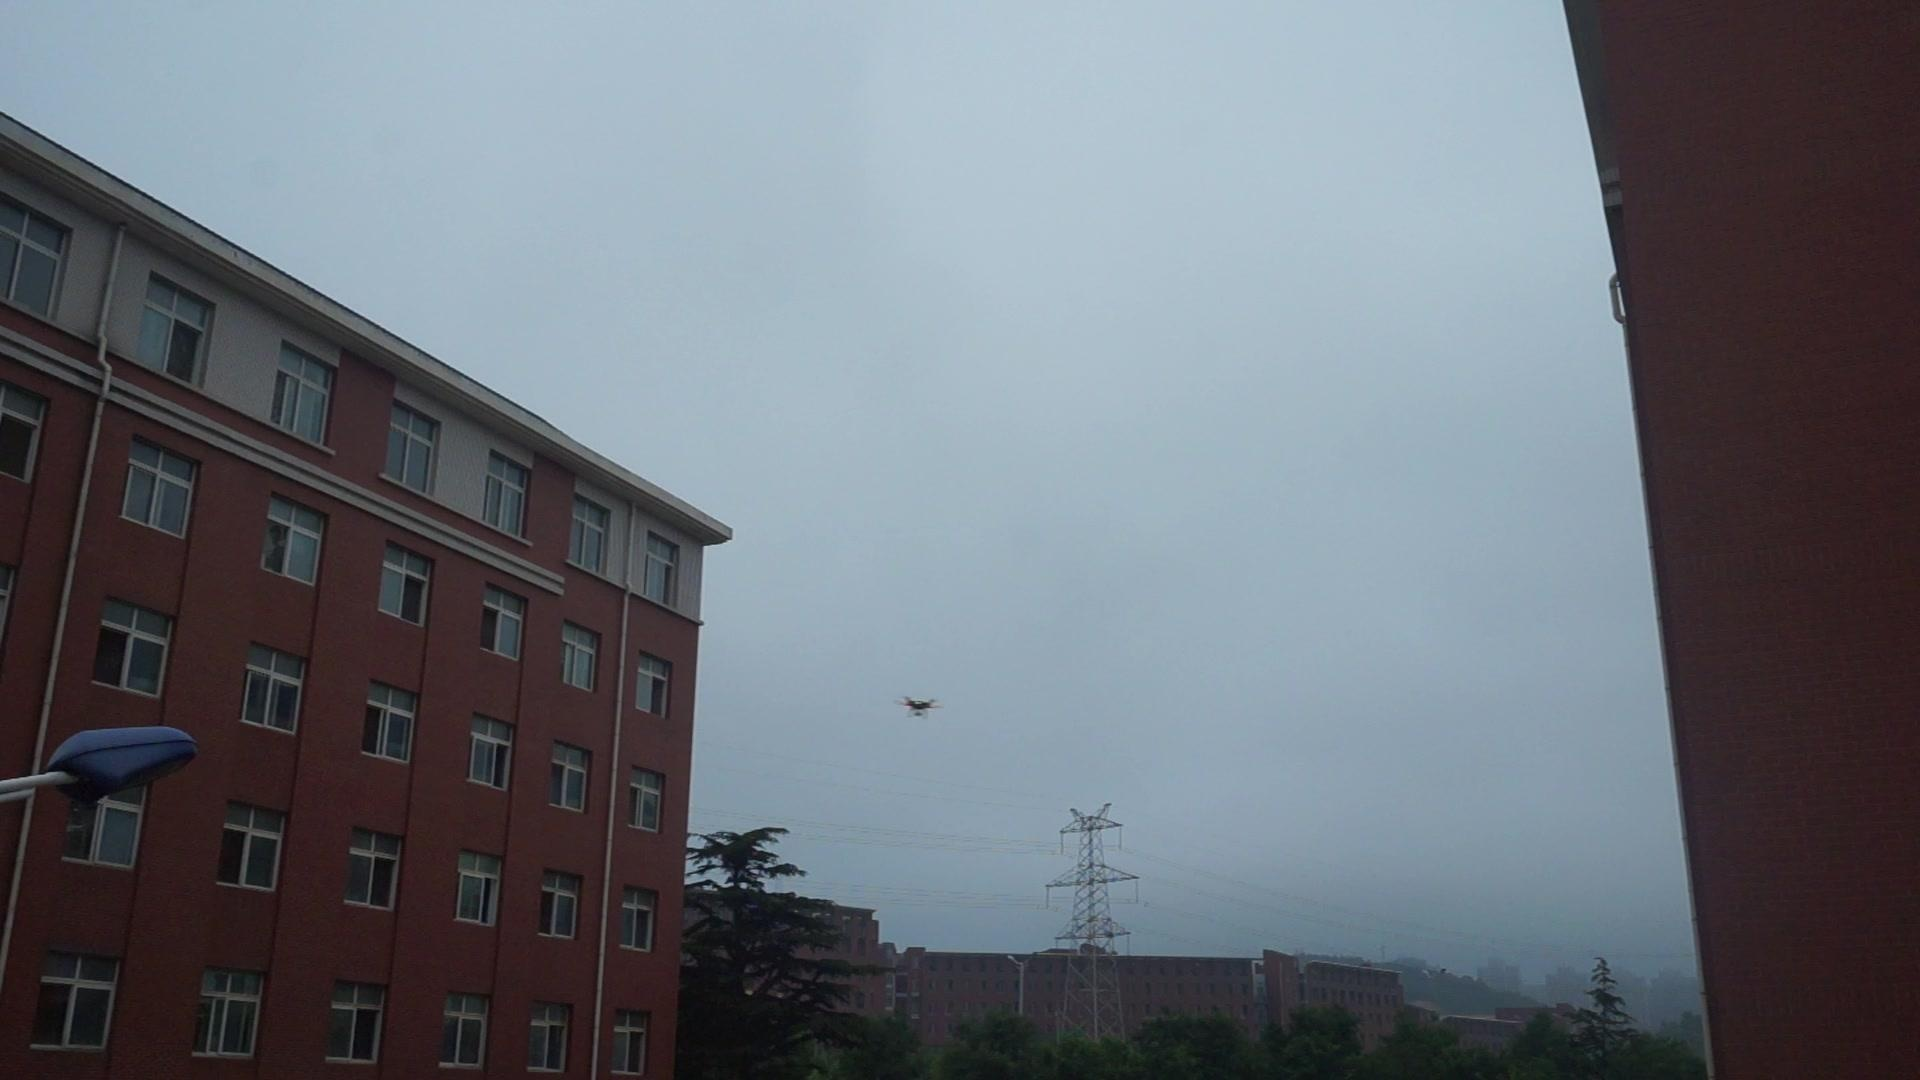UAV: (898, 698, 945, 717)
